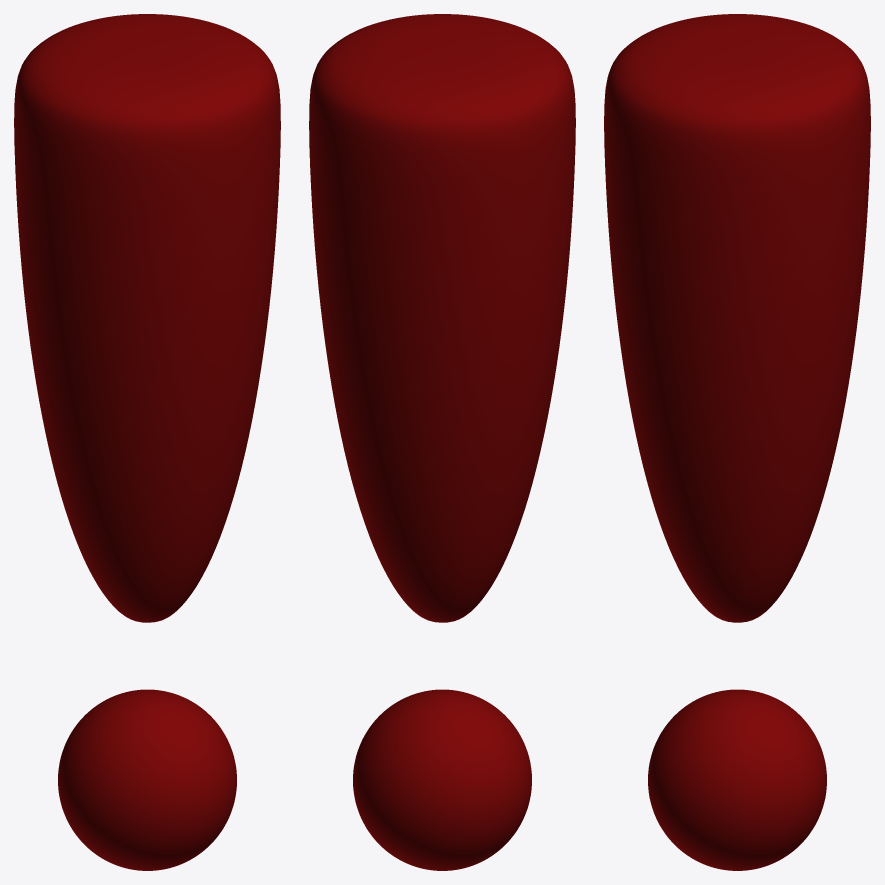
The model's file is expoint_low.fbx.
3 views of the same model, side by side, from view 1: azimuth 30°, elevation 25°; view 2: azimuth 150°, elevation 25°; view 3: azimuth 270°, elevation 25° (orthographic).
Parts seen in each view (by area): view 1: expoint_low; view 2: expoint_low; view 3: expoint_low.
Part boxes in pixels (<box>): expoint_low: <box>14,14,280,870</box>; expoint_low: <box>309,14,575,870</box>; expoint_low: <box>604,14,870,870</box>.
Size of the model in its own units: 1.95 by 6.57 by 1.95.
